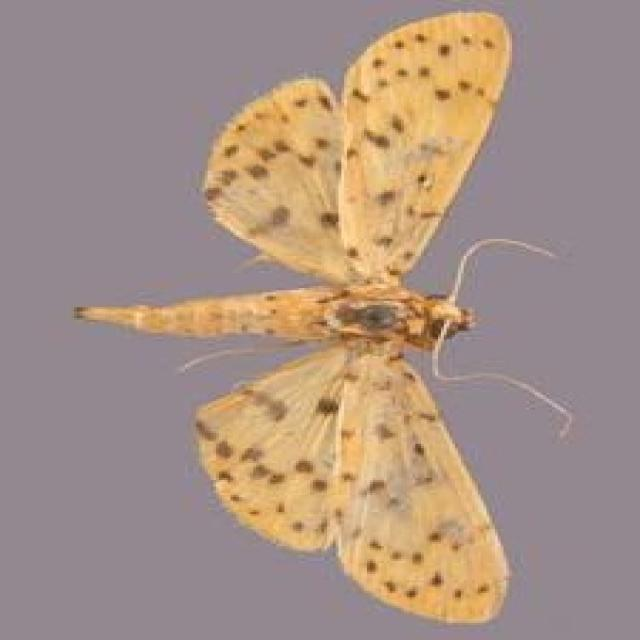peach borer: (74, 9, 589, 624)
